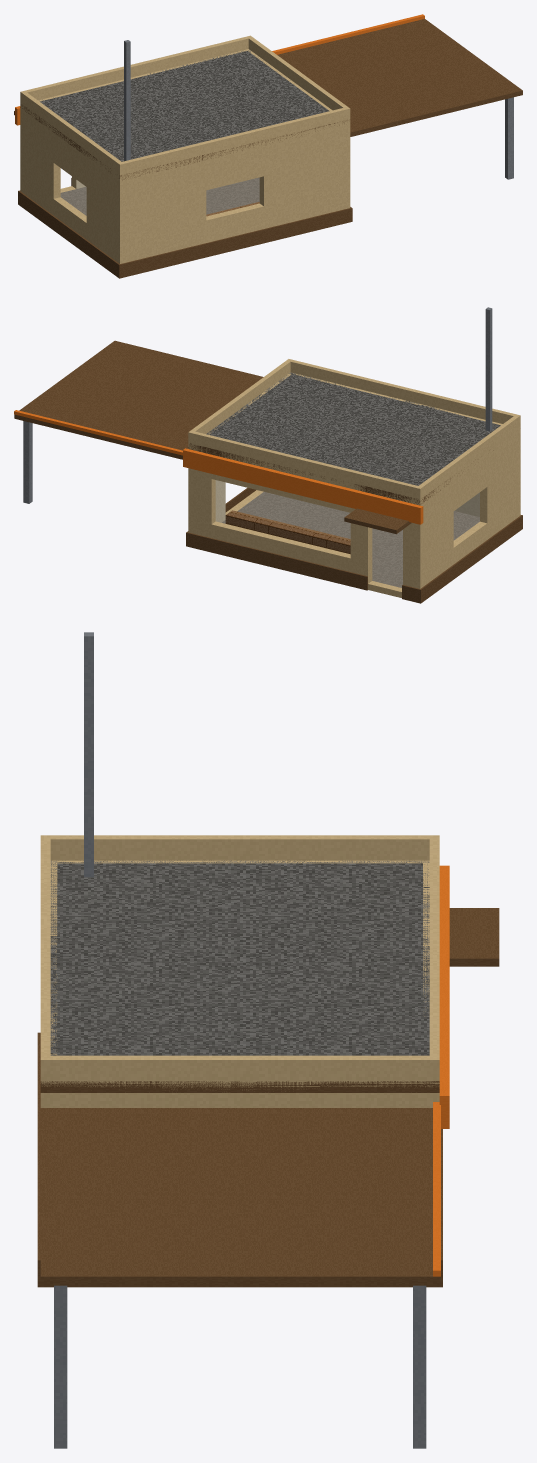
File: patrol_outpost.glb
3 views of the same model, one above another, from view 1: azimuth 30°, elevation 25°; view 2: azimuth 150°, elevation 25°; view 3: azimuth 270°, elevation 25° (orthographic). The views are drawn at different scales.
Parts seen in each view (by area): view 1: patrol_outpost; view 2: patrol_outpost; view 3: patrol_outpost.
Part boxes in pixels (box(x1,y1,x2,y2)): patrol_outpost: box(14, 14, 522, 278); patrol_outpost: box(14, 307, 522, 603); patrol_outpost: box(37, 632, 499, 1448).
Bounding box in the file's own units: 14.1 × 7.4 × 6.95.
8 materials, 8 textured.
